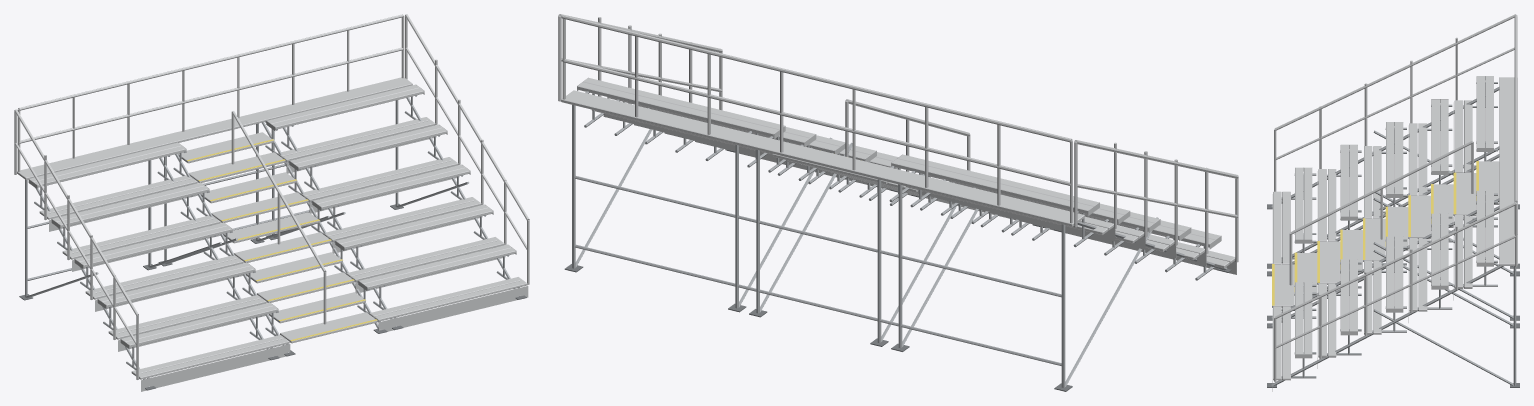
The model's file is bleacher.glb.
3 renders of one model, left to right at view 1: azimuth 30°, elevation 25°; view 2: azimuth 150°, elevation 25°; view 3: azimuth 270°, elevation 25°, orthographic. The views are drawn at different scales.
Parts seen in each view (by area): view 1: bleacher_alu, bleacher_steel, bleacher_paint_y, bleacher_steel_d; view 2: bleacher_alu, bleacher_steel, bleacher_steel_d; view 3: bleacher_alu, bleacher_steel, bleacher_paint_y, bleacher_steel_d.
Boxes of the visible parts, left/top/right/bottom form: bleacher_alu: left=14, top=14, right=529, bottom=391; bleacher_steel: left=25, top=94, right=520, bottom=387; bleacher_paint_y: left=187, top=139, right=377, bottom=341; bleacher_steel_d: left=19, top=203, right=526, bottom=390; bleacher_alu: left=558, top=14, right=1238, bottom=274; bleacher_steel: left=572, top=91, right=1227, bottom=387; bleacher_steel_d: left=564, top=150, right=1231, bottom=391; bleacher_alu: left=1272, top=14, right=1517, bottom=391; bleacher_steel: left=1271, top=82, right=1516, bottom=385; bleacher_paint_y: left=1272, top=161, right=1478, bottom=305; bleacher_steel_d: left=1267, top=204, right=1519, bottom=387.
Size of the model in its own units: 7.11 by 3.33 by 4.01.
